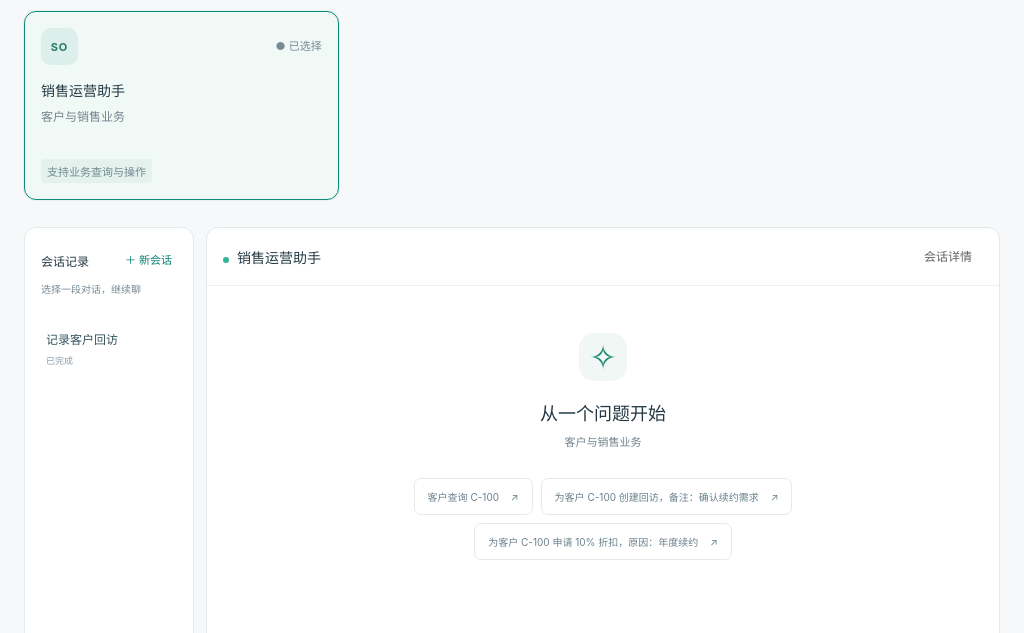
Test case: keeps full write results in a collapsed execution record; failed=false
Click the button with class "session-item": (109, 349) [25,316,193,381]
(page scrolled)
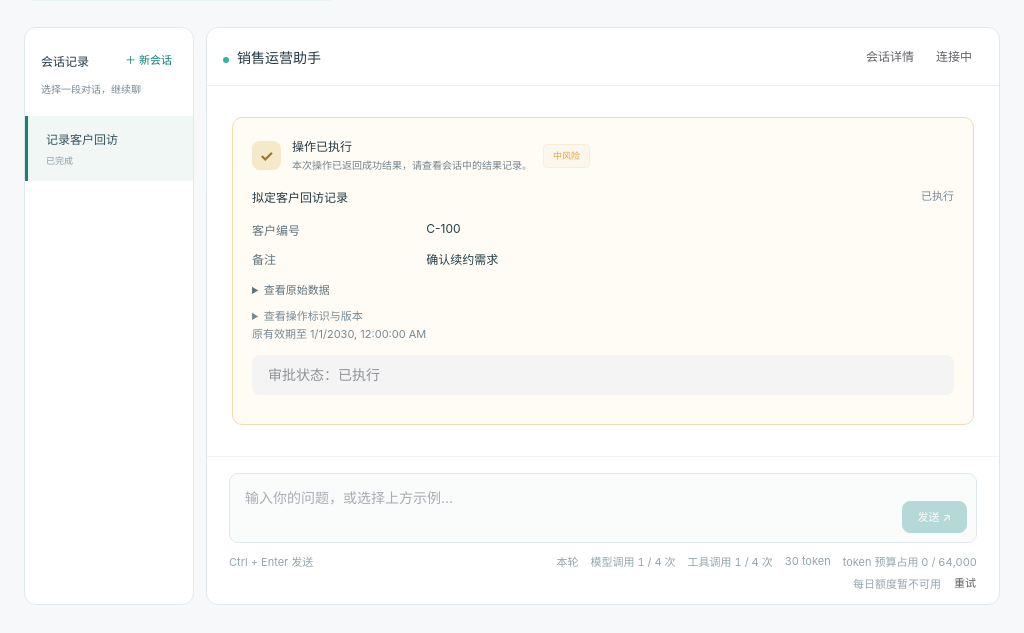
Expected: the element named "审批请求" is shown, [232,117,974,425]
